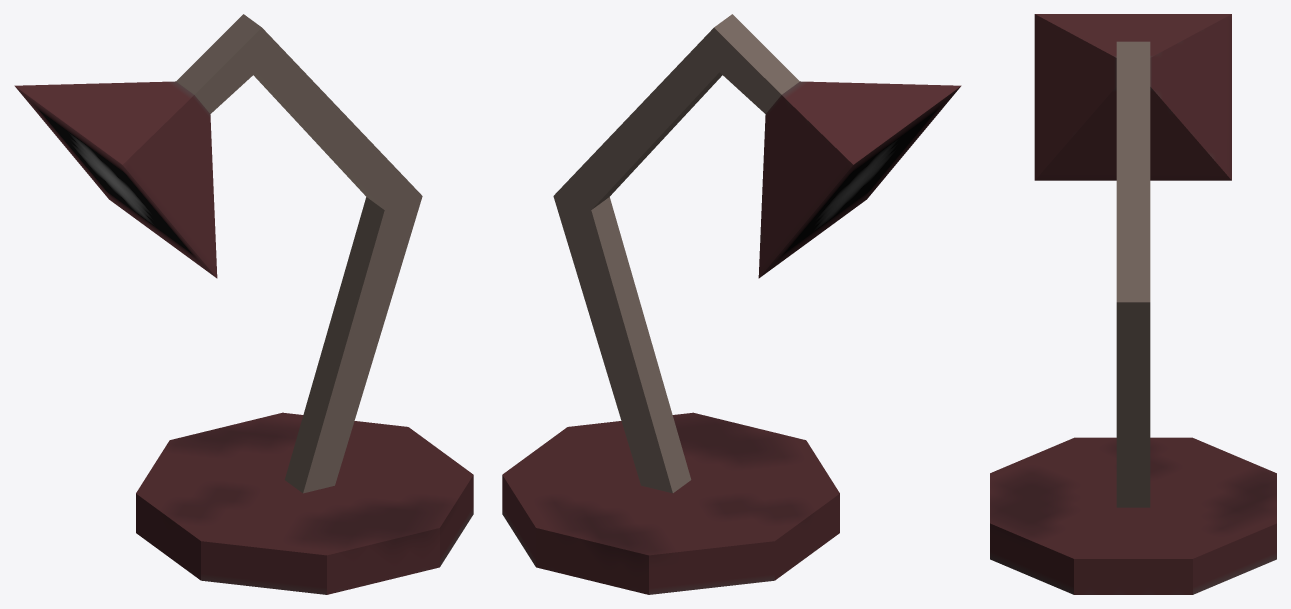
File: obj_lamp .fbx
3 views of the same model, side by side, from view 1: azimuth 30°, elevation 25°; view 2: azimuth 150°, elevation 25°; view 3: azimuth 270°, elevation 25° (orthographic). The views are drawn at different scales.
Visible parts, largest first — view 1: obj_lamp; view 2: obj_lamp; view 3: obj_lamp.
Part boxes in pixels (<box>): obj_lamp: <box>14,14,473,594</box>; obj_lamp: <box>502,14,961,594</box>; obj_lamp: <box>990,14,1276,594</box>.
Bounding box in the file's own units: 23.63 × 31.24 × 17.29.
